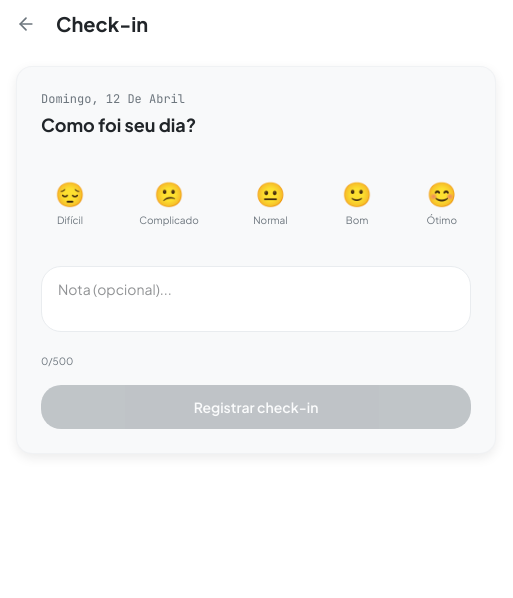
Scenario: Checkin Page — Friend Streak Feedback › shows nudge button when friend has not checked in
Click the button "🙂 Bom" at (357, 202), box [328, 163, 386, 242]
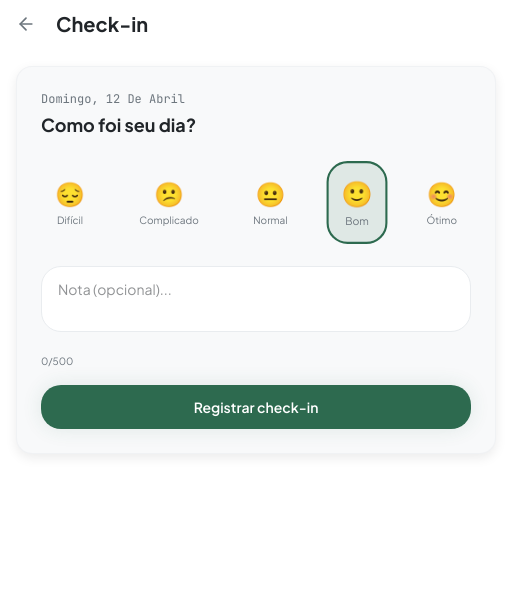
Click the button "Registrar check-in" at (256, 407), box [41, 385, 471, 429]
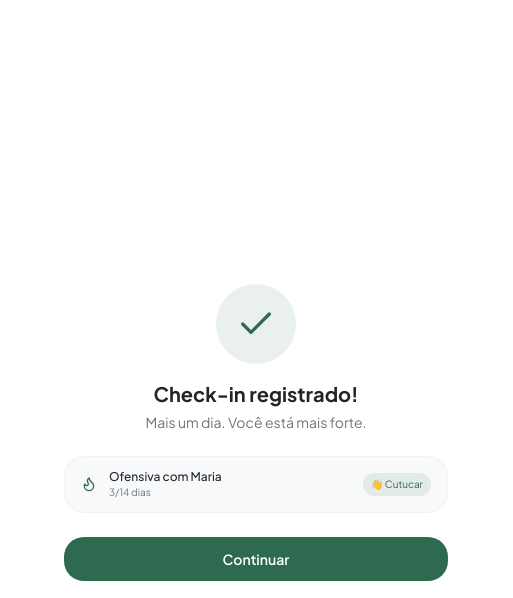
Now the button "👋 Cutucar" is shown, box [363, 472, 431, 496]
